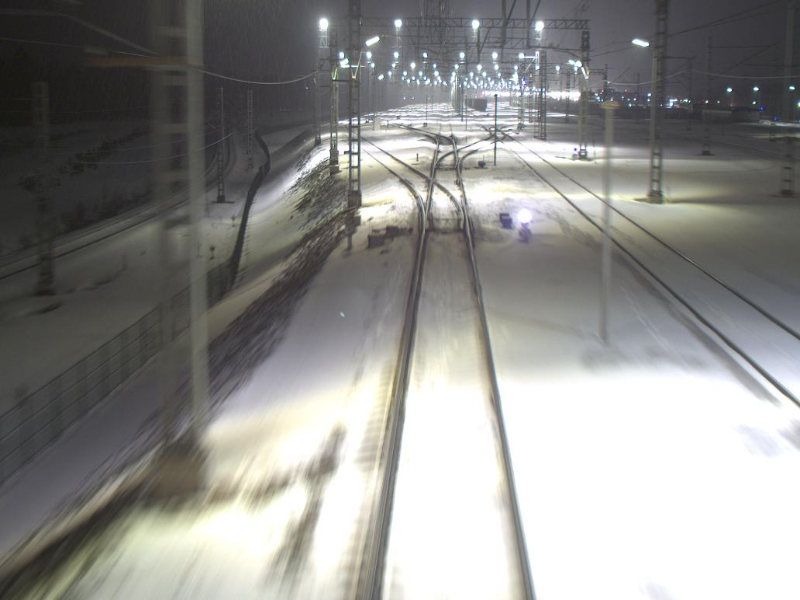right: (418, 172, 470, 232), (434, 148, 460, 169)
